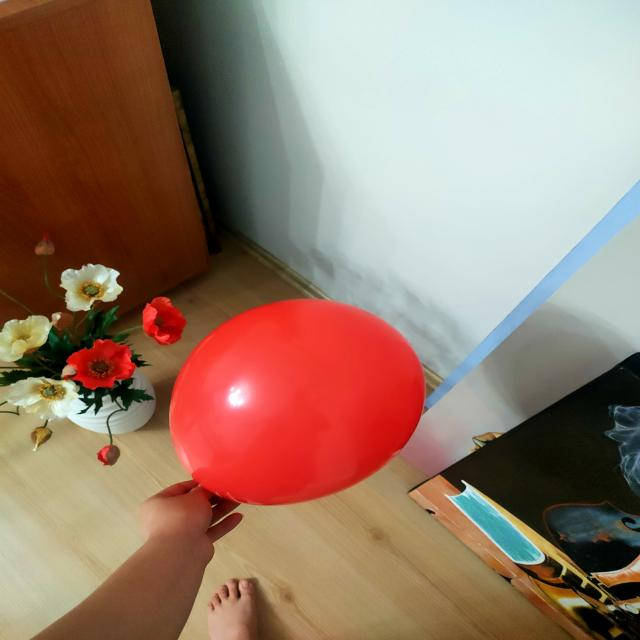red: (170, 299, 424, 507)
